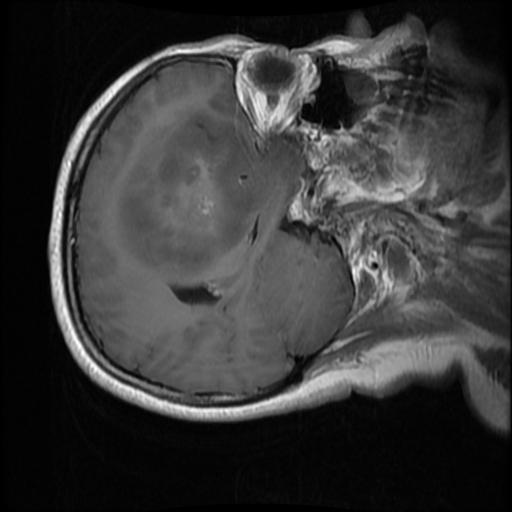glioma: (117, 96, 295, 270)
